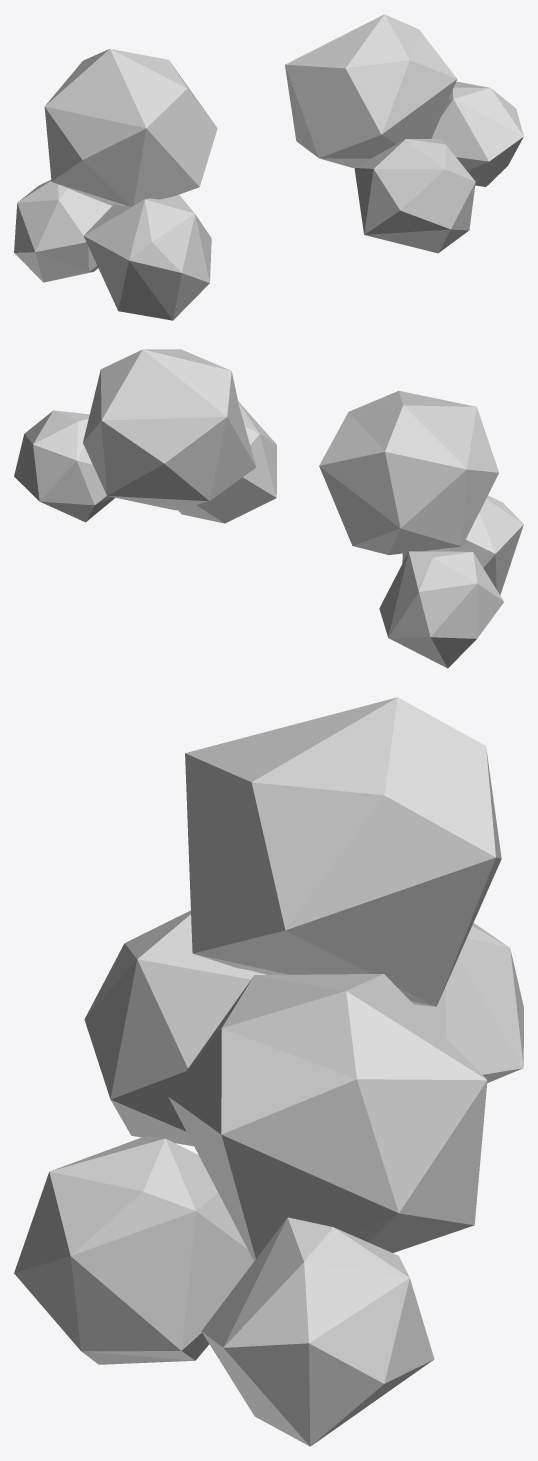
File: Ore_rock_iron.fbx
The picture shows the model from 3 angles, top to bottom: view 1: azimuth 30°, elevation 25°; view 2: azimuth 150°, elevation 25°; view 3: azimuth 270°, elevation 25°; orthographic projection. The views are drawn at different scales.
Visible parts, largest first — view 1: Ore_rock_iron; view 2: Ore_rock_iron; view 3: Ore_rock_iron.
Part boxes in pixels (box(x1,y1,x2,y2)): Ore_rock_iron: box(14, 14, 523, 320); Ore_rock_iron: box(14, 349, 523, 668); Ore_rock_iron: box(14, 697, 523, 1446).
Size of the model in its own units: 179 by 83.3 by 84.32.
